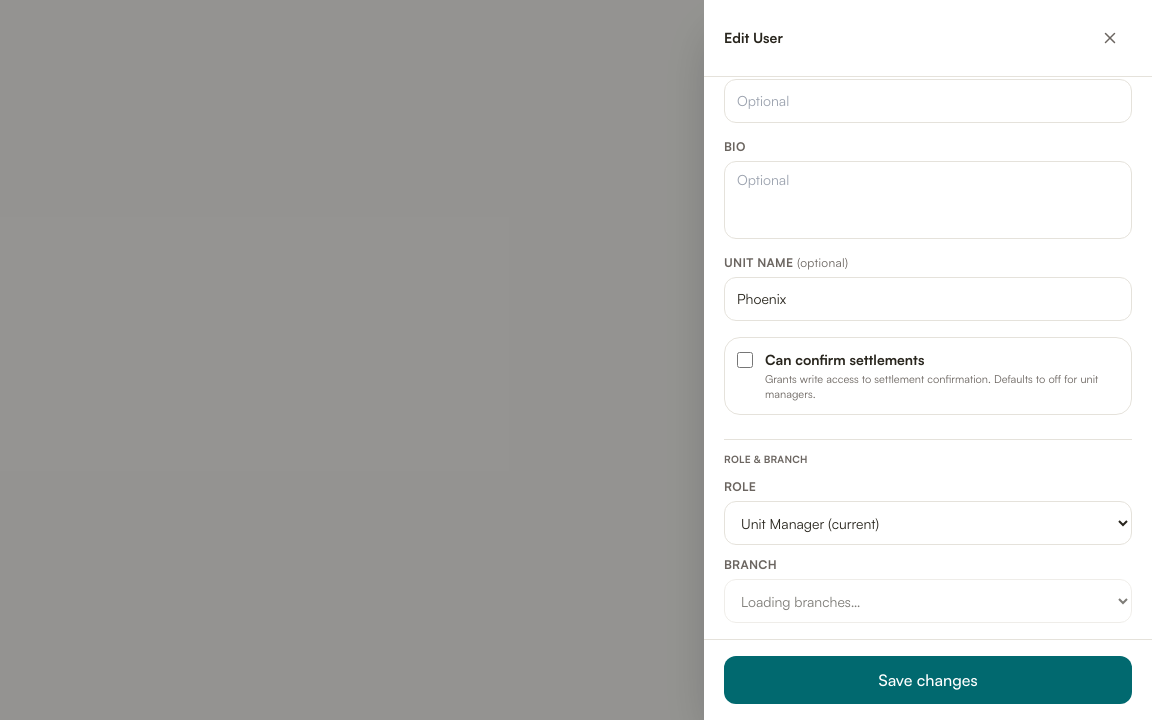
Test case: EditUserDrawer › demoting to agent requires unitId selection before save
(page scrolled)
Select "Agent" in the dropdown with test id "edit-user-role" at [928, 523], box [724,501,1132,545]
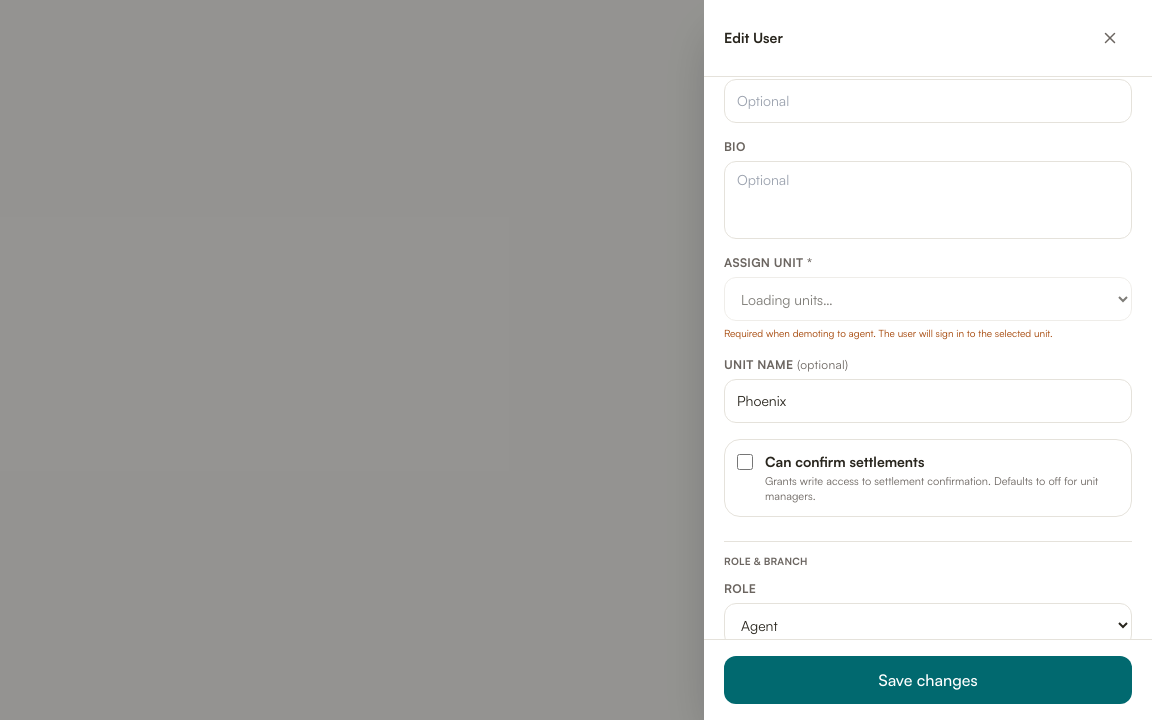
Click the button "Save changes" at [928, 680], box [724,656,1132,704]
(page scrolled)
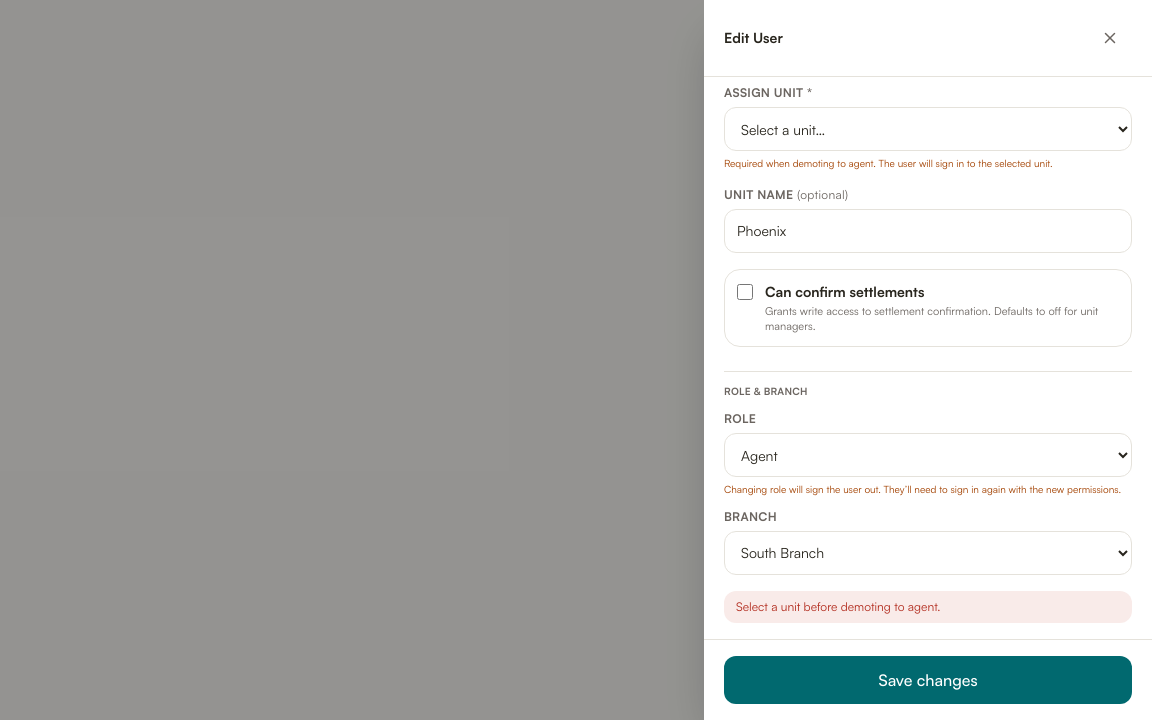
Check: the text "Select a unit before demoting to agent." is shown, box [724,591,1132,623]
